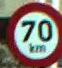Speed limit: (5, 0, 61, 65)
